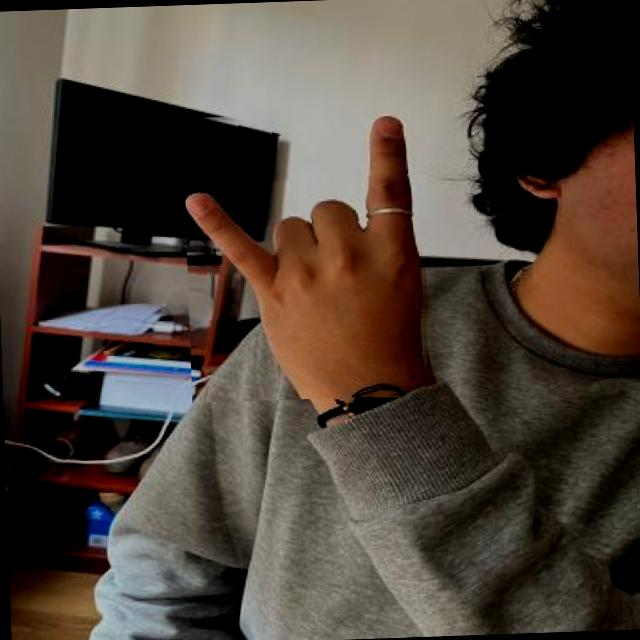U: (182, 104, 434, 402)
